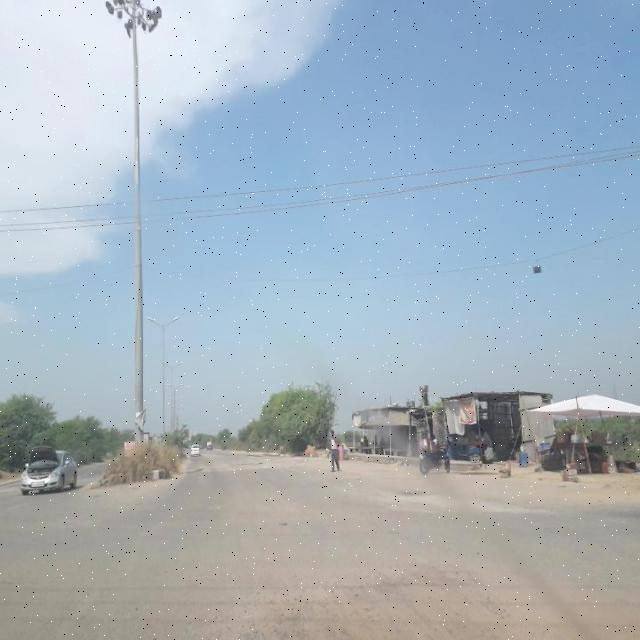D40: (366, 550, 497, 595)
